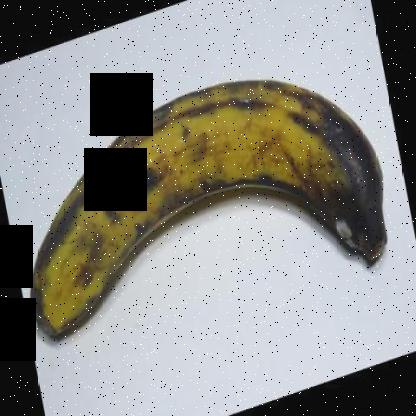overripe: (21, 69, 398, 362)
rotten: (291, 98, 415, 273)
